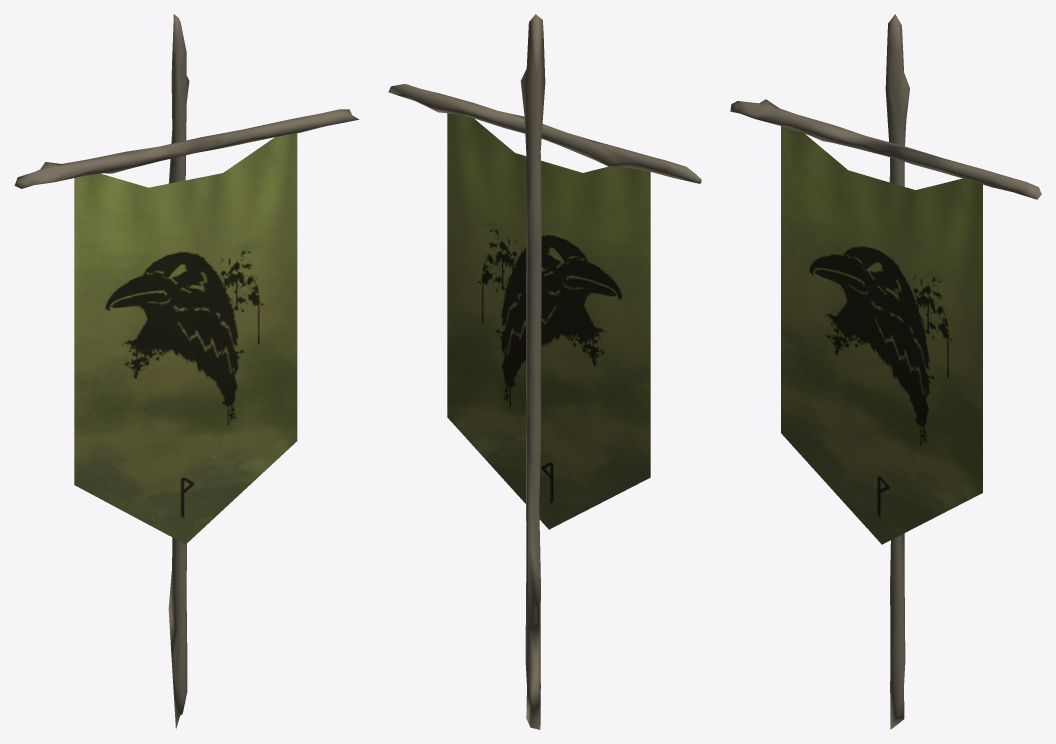
File: fort_flag_postioning.glb
The picture shows the model from 3 angles, left to right: view 1: azimuth 30°, elevation 25°; view 2: azimuth 150°, elevation 25°; view 3: azimuth 330°, elevation 25°; orthographic projection.
Visible parts, largest first — view 1: townhall.003; view 2: townhall.003; view 3: townhall.003.
Part boxes in pixels (box(x1,y1,x2,y2)): townhall.003: box(14, 14, 358, 728); townhall.003: box(388, 14, 701, 729); townhall.003: box(730, 14, 1041, 729).
Size of the model in its own units: 0.2506 by 0.5249 by 0.0367.
Materials: 2 (1 with a texture image).
